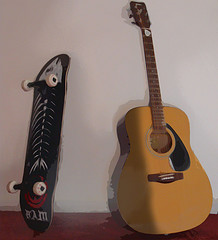guitar: (104, 1, 212, 236)
